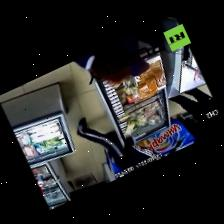person: (76, 117, 164, 173), (74, 33, 148, 86), (169, 88, 223, 132)
